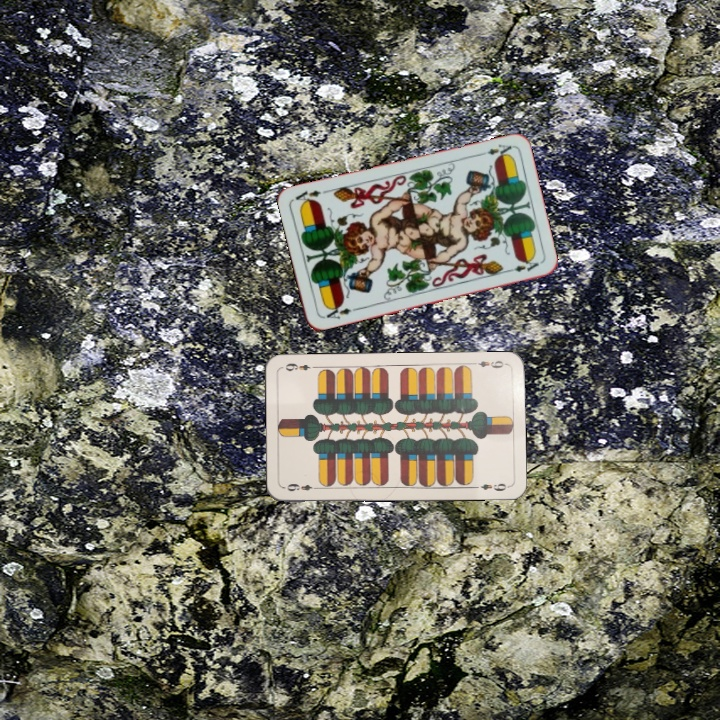E9: (281, 480, 322, 494), (468, 357, 509, 371)
EA: (319, 301, 359, 322), (475, 140, 514, 161)
